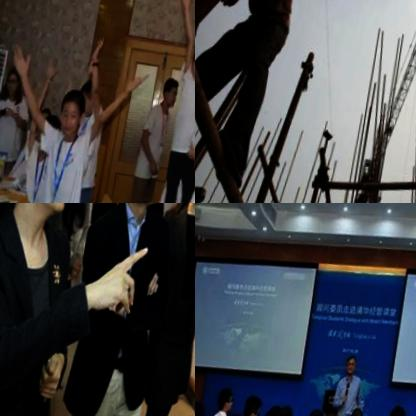head: (54, 89, 87, 138), (77, 79, 101, 118), (213, 381, 236, 415), (1, 66, 24, 97), (159, 78, 179, 112), (240, 391, 262, 416), (187, 34, 195, 87), (259, 403, 284, 416), (301, 403, 325, 416), (275, 401, 295, 416), (344, 354, 358, 375), (384, 406, 406, 416), (195, 398, 205, 416)
